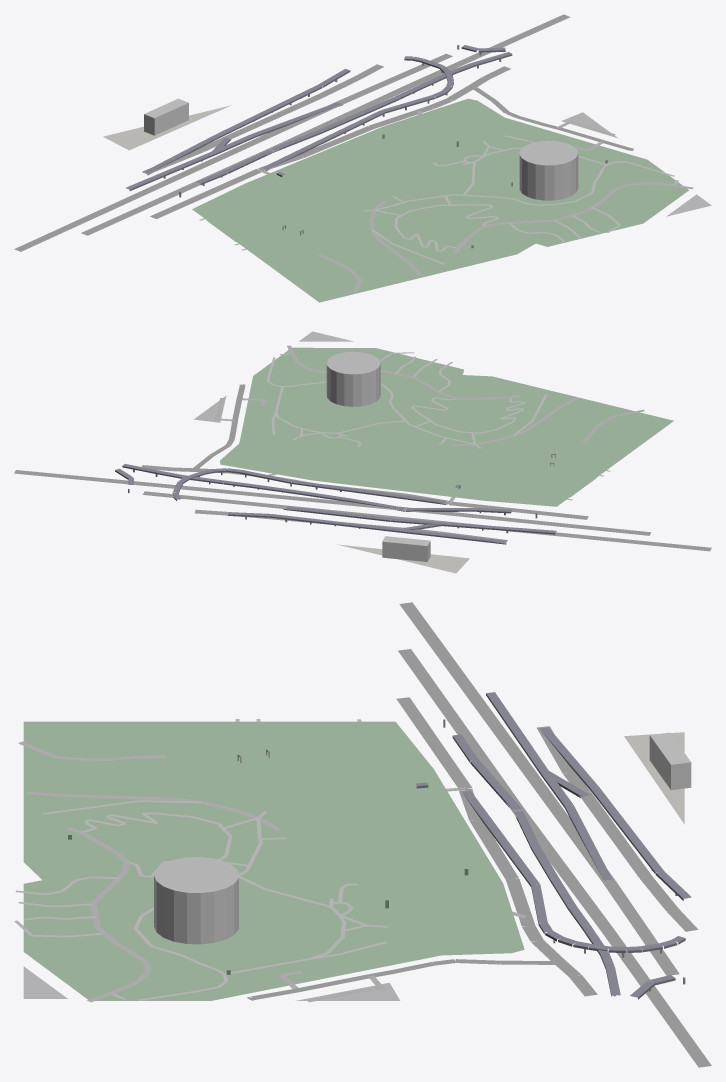
3 views of the same model, one above another, from view 1: azimuth 30°, elevation 25°; view 2: azimuth 150°, elevation 25°; view 3: azimuth 270°, elevation 25° (orthographic). The views are drawn at different scales.
Size of the model in its own units: 834 by 47.61 by 528.
